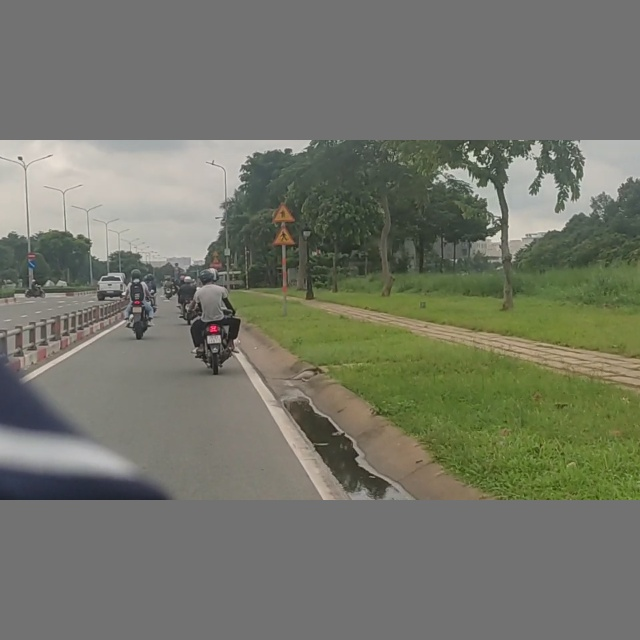P.102: (27, 252, 37, 260)
R.302a: (28, 260, 36, 269)
W.207: (273, 204, 295, 222)
W.224: (273, 225, 295, 245)
